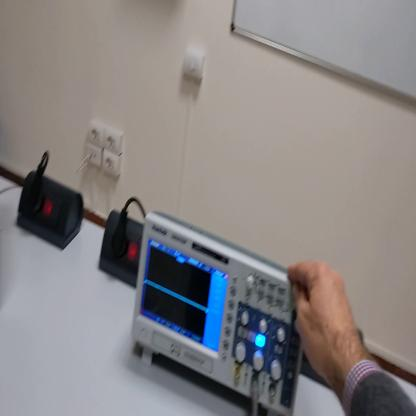hand: (288, 260, 361, 387)
oscilloscope: (129, 215, 300, 416)
socket: (19, 171, 88, 251), (100, 205, 145, 289)
